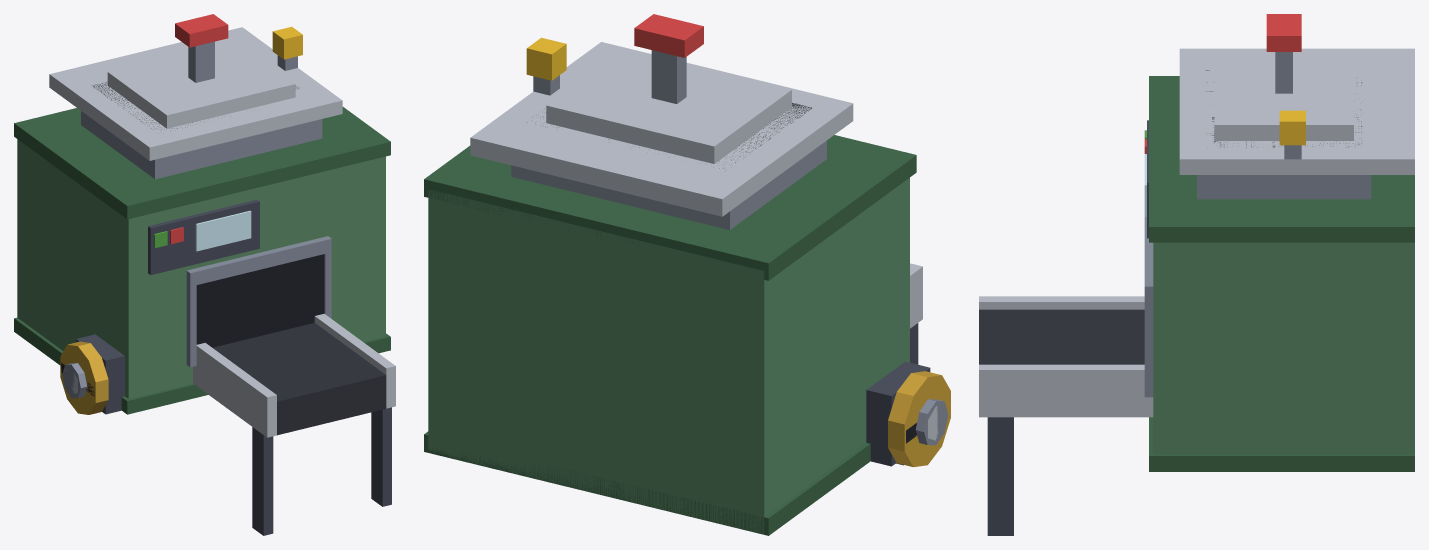
Rendered from packer-left.glb.
The picture shows the model from 3 angles, left to right: view 1: azimuth 30°, elevation 25°; view 2: azimuth 150°, elevation 25°; view 3: azimuth 270°, elevation 25°; orthographic projection. The views are drawn at different scales.
Parts seen in each view (by area): view 1: packer-left, slide-up, spin-x; view 2: packer-left, slide-up, spin-x; view 3: packer-left, slide-up.
Boxes of the visible parts, <box> form: packer-left: <box>14,26,395,535</box>; slide-up: <box>107,14,295,128</box>; spin-x: <box>60,341,108,414</box>; packer-left: <box>424,37,937,535</box>; slide-up: <box>546,14,791,163</box>; spin-x: <box>888,371,950,467</box>; packer-left: <box>979,48,1414,535</box>; slide-up: <box>1214,14,1353,140</box>.
Size of the model in its own units: 0.93 by 1.2 by 1.
3 materials, 3 textured.
